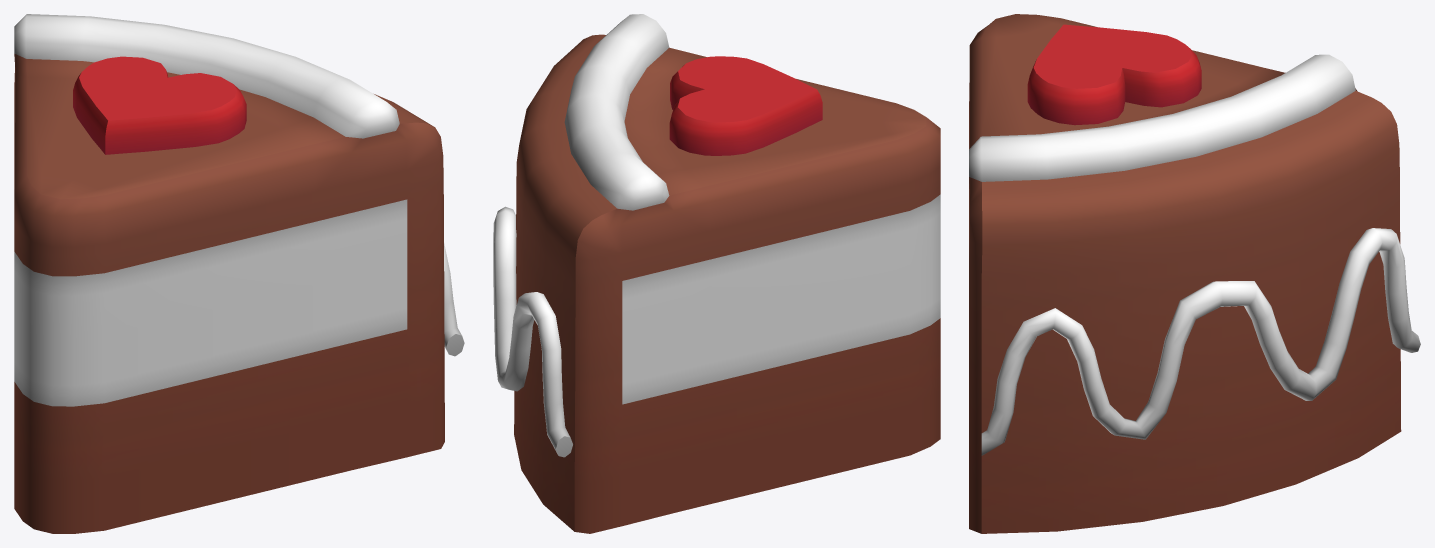
The model's file is cake11_slice.FBX.
The picture shows the model from 3 angles, left to right: view 1: azimuth 30°, elevation 25°; view 2: azimuth 150°, elevation 25°; view 3: azimuth 270°, elevation 25°; orthographic projection. The views are drawn at different scales.
Parts seen in each view (by area): view 1: cake11_slice; view 2: cake11_slice; view 3: cake11_slice.
Boxes of the visible parts, x1,y1,x2,y2 form: cake11_slice: (14, 14, 464, 533); cake11_slice: (493, 14, 940, 533); cake11_slice: (969, 14, 1420, 533).
Bounding box in the file's own units: 0.00919 × 0.00763 × 0.00857.
